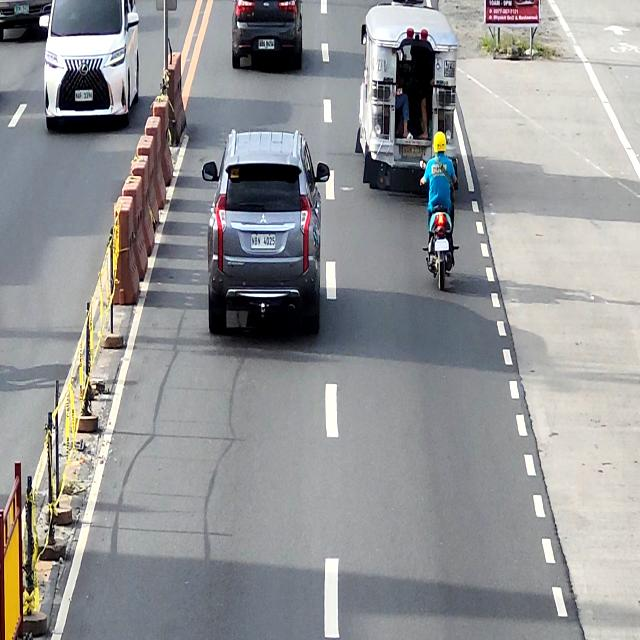Car: (203, 128, 330, 336), (38, 0, 139, 127), (232, 0, 304, 74), (0, 0, 53, 42)
Jeep: (355, 6, 459, 201)
License-Plate: (250, 234, 276, 250), (402, 144, 424, 160), (74, 90, 93, 102), (433, 238, 449, 252), (14, 3, 30, 15), (258, 39, 275, 49)
Motorcycle: (420, 158, 460, 294)
